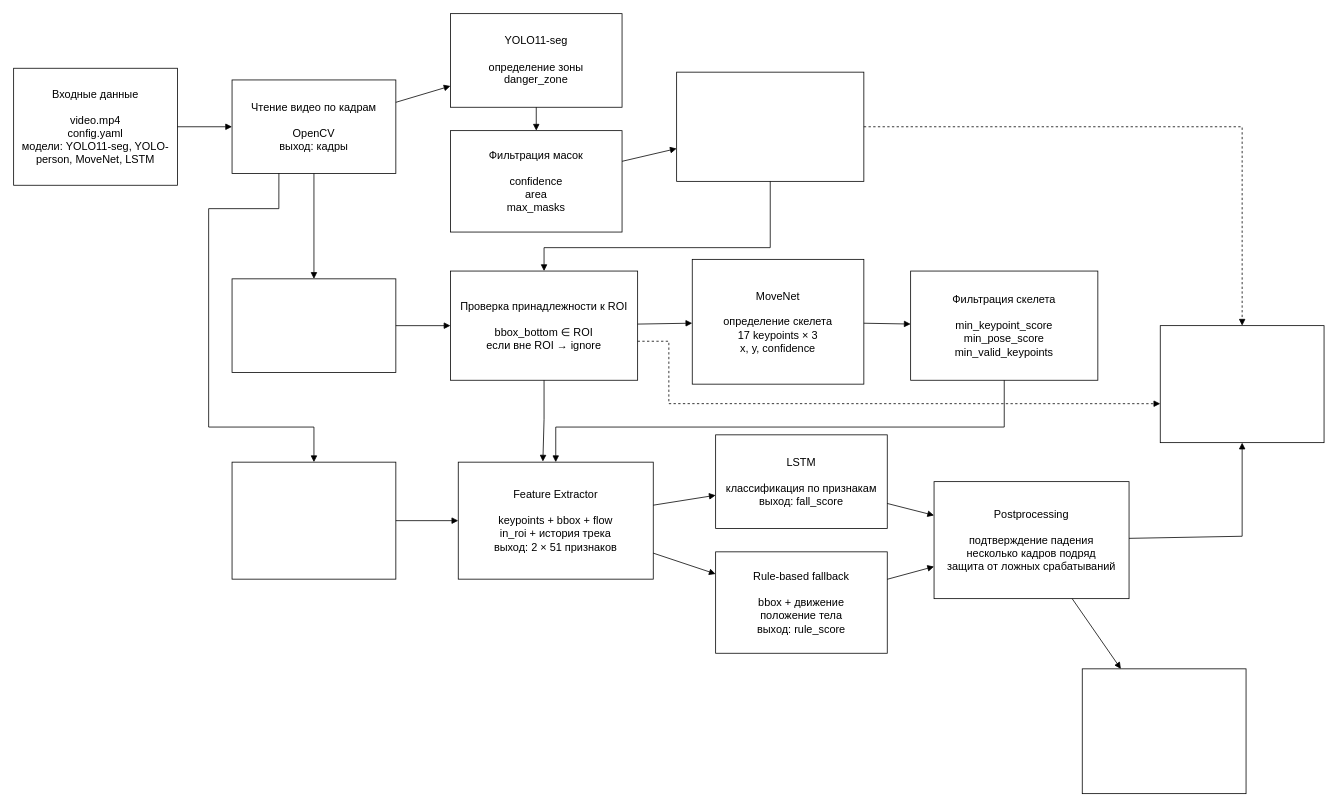
The diagram is 1338 pixels wide and 807 high, and some of its shapes have lost their labels. Here are the shapes that lost their labels. From the top down, the centre of each, then its label:
At (x=770, y=126): "ROI зоны ответственности маска лестницы / эскалатора обновление по кадрам".
At (x=313, y=325): "YOLO-person обнаружение человека выход: bbox".
At (x=1241, y=384): "Preview-видео ROI bbox skeleton label".
At (x=313, y=520): "Optical Flow движение между кадрами скорость направление движение вниз".
At (x=1163, y=731): "CSV-разметка frame track_id in_roi label fall_score".
